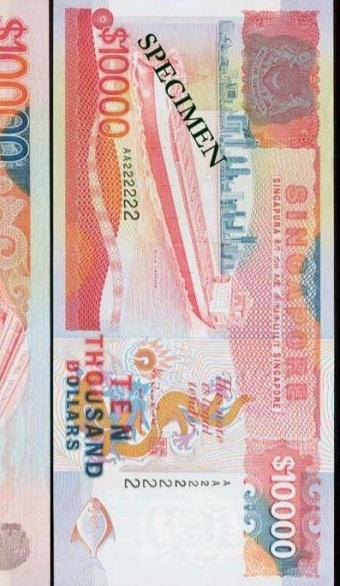10000SingaporeDollar: (55, 0, 333, 586)
